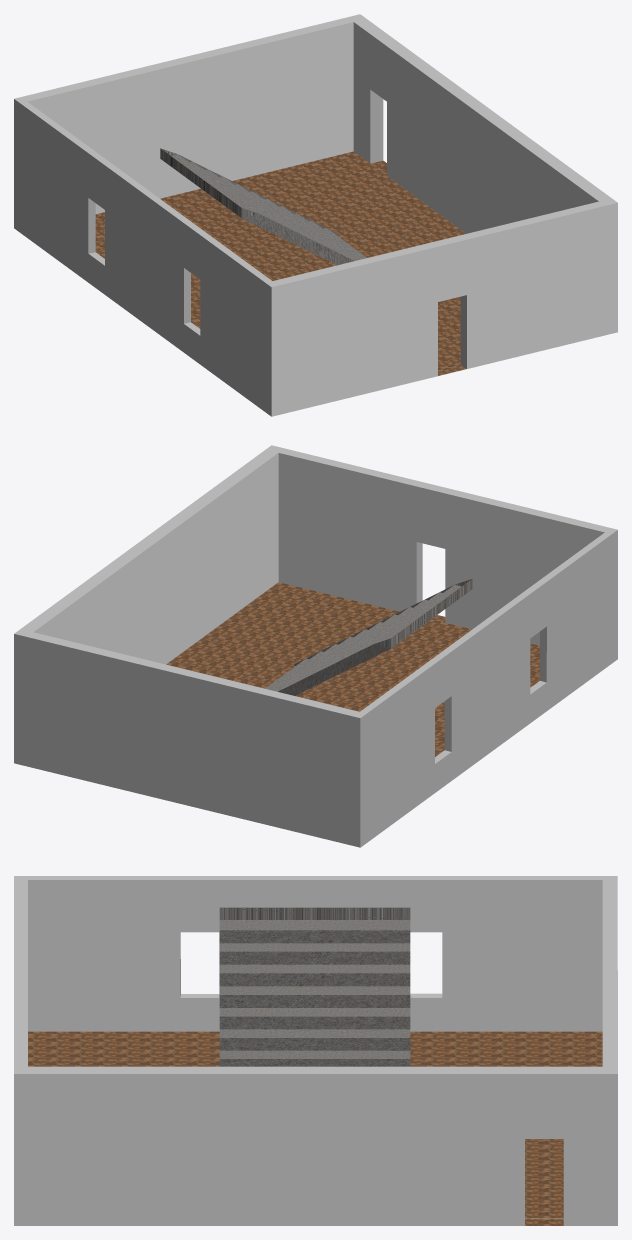
File: StairwellR.fbx
3 renders of one model, top to bottom at view 1: azimuth 30°, elevation 25°; view 2: azimuth 150°, elevation 25°; view 3: azimuth 270°, elevation 25°, orthographic. The views are drawn at different scales.
Visible parts, largest first — view 1: Classroom 1.027; view 2: Classroom 1.027; view 3: Classroom 1.027.
Part boxes in pixels (x1=…): Classroom 1.027: x1=14, y1=14, x2=617, y2=416; Classroom 1.027: x1=14, y1=445, x2=617, y2=847; Classroom 1.027: x1=14, y1=876, x2=617, y2=1225.
Bounding box in the file's own units: 1907 × 692 × 2457.
